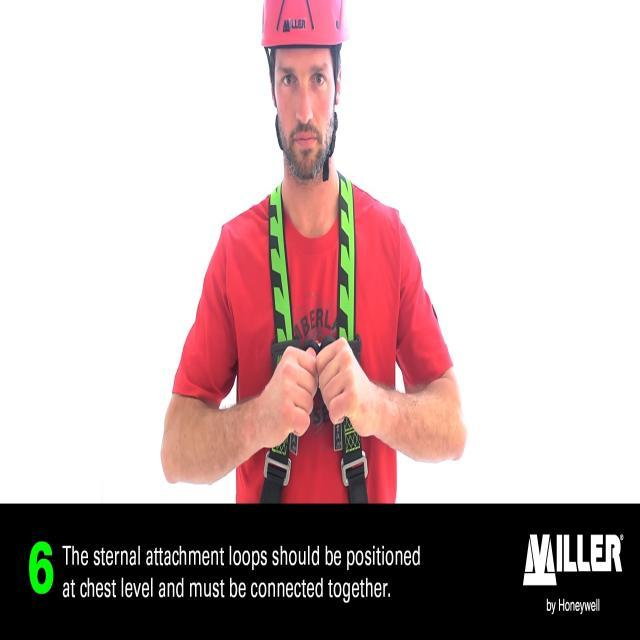belt: (258, 174, 372, 506), (46, 6, 48, 7)
